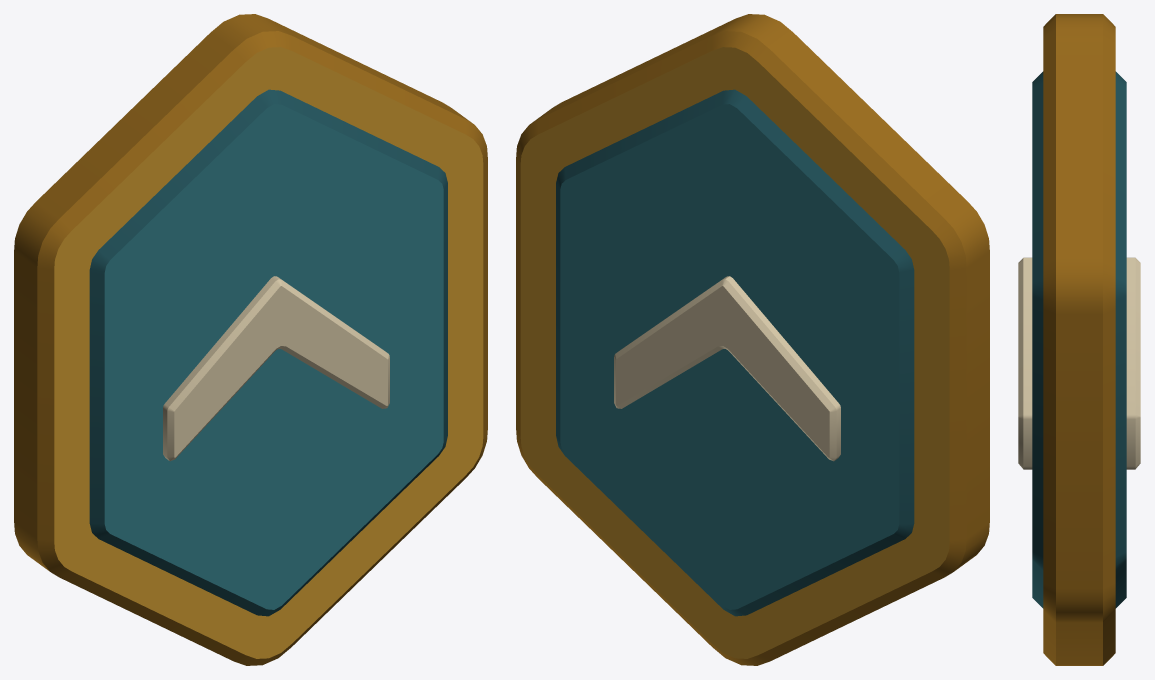
File: Badge_02.glb
3 views of the same model, side by side, from view 1: azimuth 30°, elevation 25°; view 2: azimuth 150°, elevation 25°; view 3: azimuth 270°, elevation 25° (orthographic).
Parts seen in each view (by area): view 1: Badge_02; view 2: Badge_02; view 3: Badge_02.
Part boxes in pixels (bbox=[...]): Badge_02: bbox=[14, 14, 487, 665]; Badge_02: bbox=[516, 14, 989, 665]; Badge_02: bbox=[1018, 14, 1140, 665].
Bounding box in the file's own units: 1.9 × 2.55 × 0.44.
